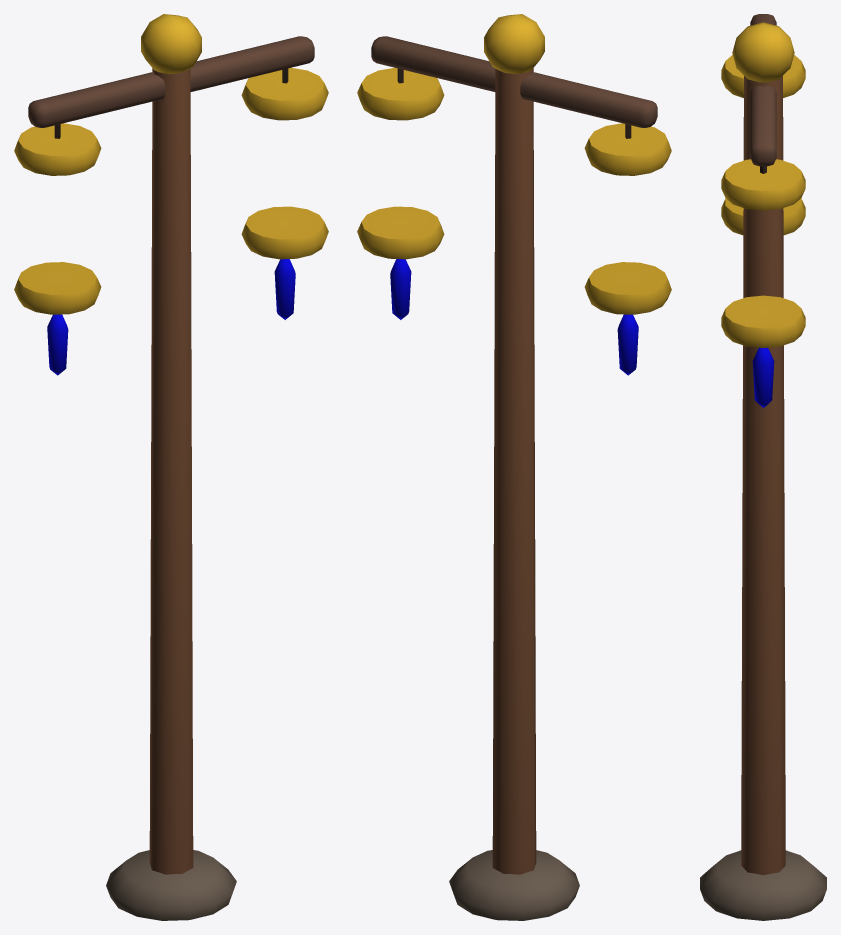
The model's file is fe-lanternpost.glb.
3 views of the same model, side by side, from view 1: azimuth 30°, elevation 25°; view 2: azimuth 150°, elevation 25°; view 3: azimuth 270°, elevation 25° (orthographic).
Visible parts, largest first — view 1: fe-lanternpost; view 2: fe-lanternpost; view 3: fe-lanternpost.
Part boxes in pixels (<box>): fe-lanternpost: <box>14,14,328,920</box>; fe-lanternpost: <box>357,14,671,920</box>; fe-lanternpost: <box>700,14,826,920</box>.
Bounding box in the file's own units: 0.8 × 2.22 × 0.2925.
